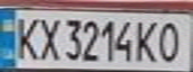1: (97, 17, 118, 62)
2: (78, 16, 100, 62)
3: (60, 15, 84, 62)
4: (115, 16, 136, 63)
K: (9, 12, 42, 61), (133, 17, 163, 63)
O: (154, 18, 187, 64)
X: (33, 14, 63, 62)
